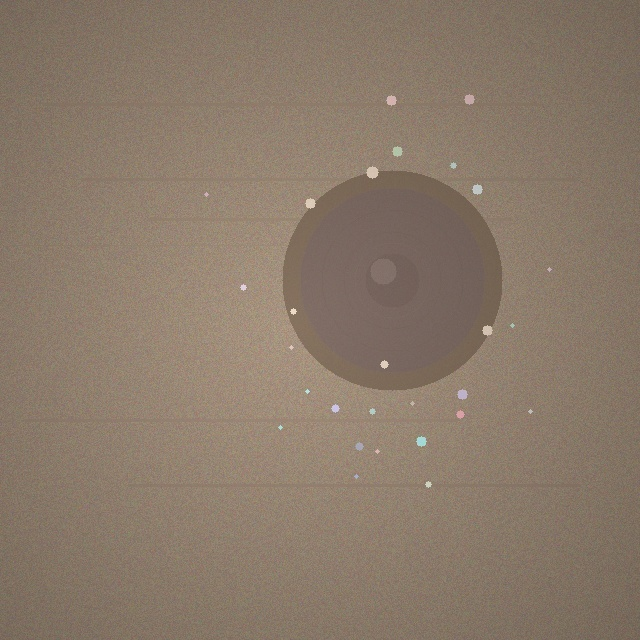overburn: (282, 170, 502, 390)
